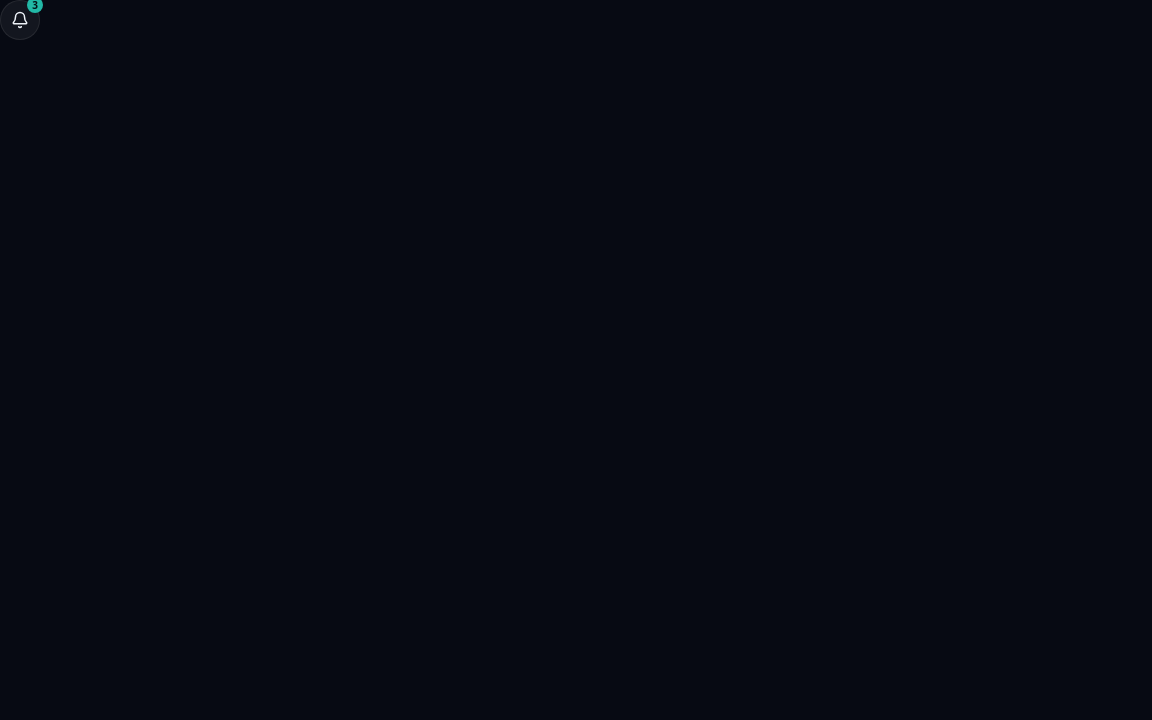
Scenario: NotificationBell (centre de notifications) › localizes a bridge notification from its code
The image size is (1152, 720).
Click the button "3" at {"x": 20, "y": 20}, box [0,0,40,40]
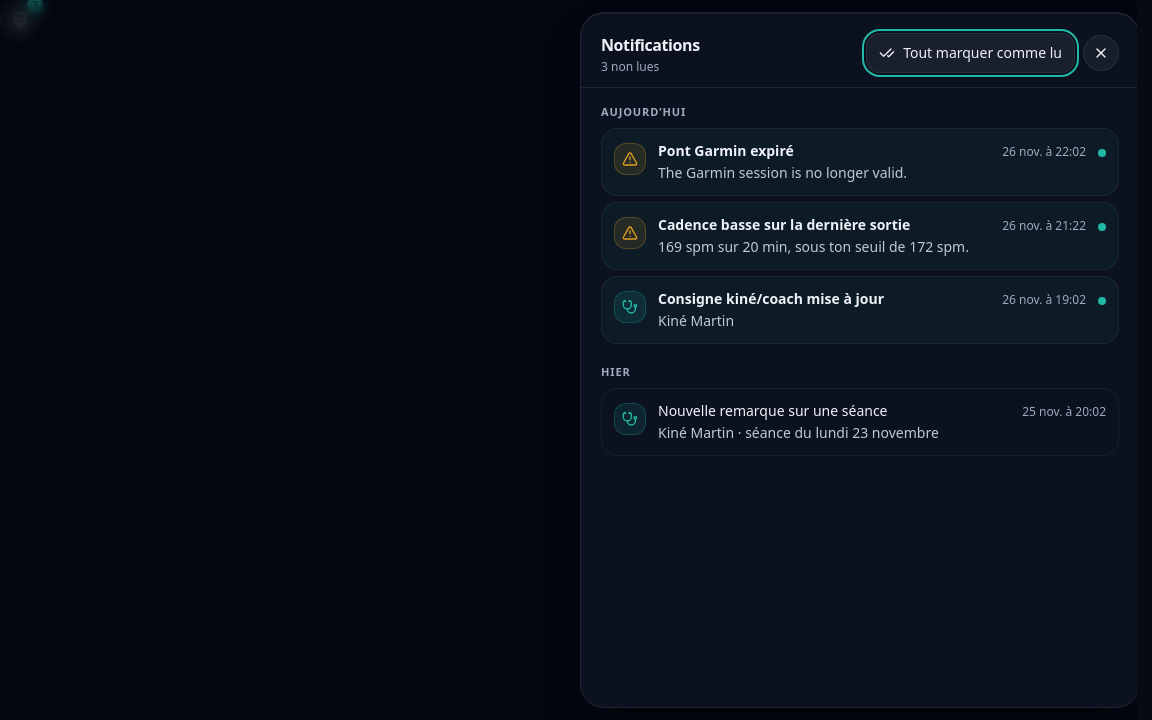
Now the text "Pont Garmin expiré" is shown, box [658,141,794,160]
